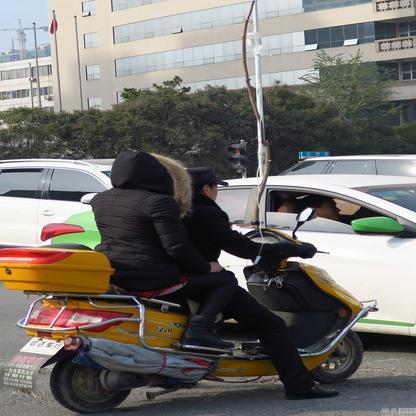target: (6, 153, 366, 411)
